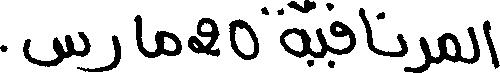X: (0, 27, 90, 72), (282, 0, 308, 70), (332, 0, 354, 72), (188, 13, 218, 61), (229, 14, 257, 64), (92, 30, 119, 72), (155, 26, 180, 61), (484, 15, 499, 72), (409, 32, 430, 72), (439, 28, 460, 67), (359, 3, 374, 57), (395, 29, 407, 72), (469, 22, 478, 68), (136, 10, 143, 59), (318, 23, 325, 62)
